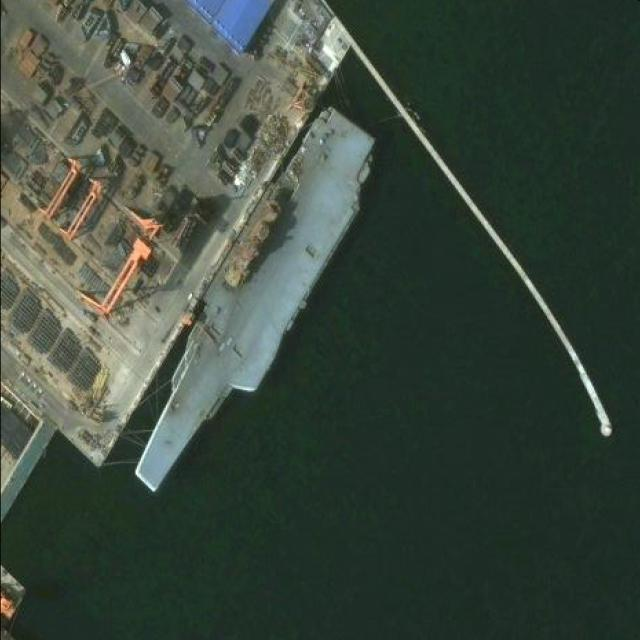Aircraft Carrier: (106, 96, 398, 515)
